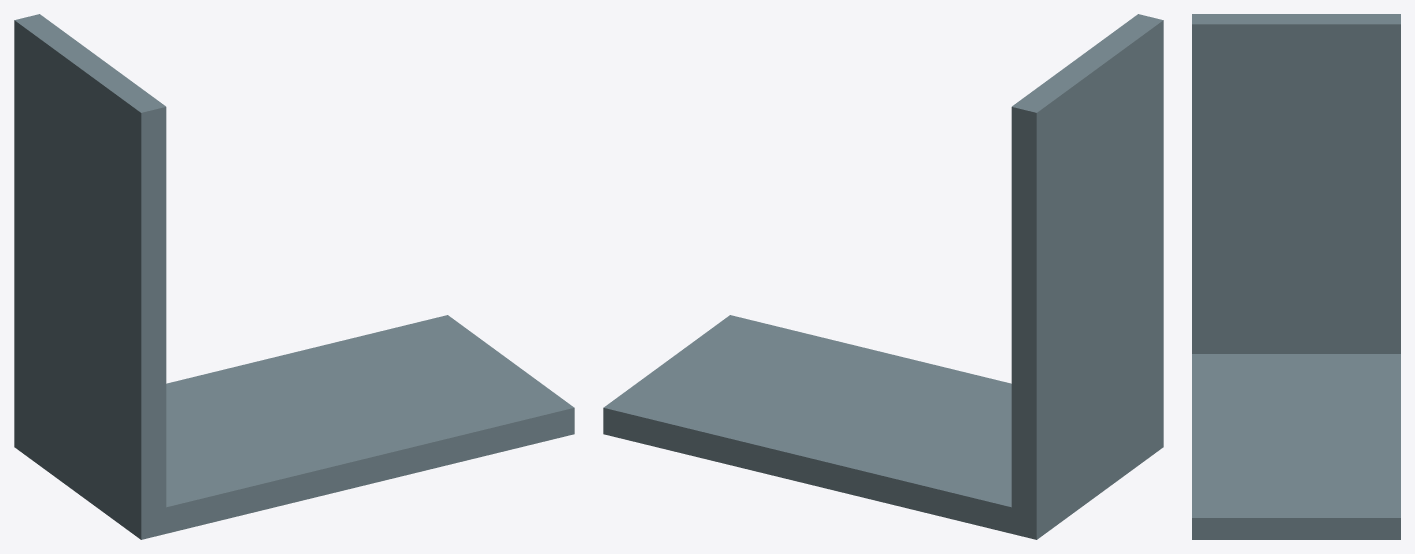
File: step-2.obj
3 renders of one model, left to right at view 1: azimuth 30°, elevation 25°; view 2: azimuth 150°, elevation 25°; view 3: azimuth 270°, elevation 25°, orthographic. The views are drawn at different scales.
Parts seen in each view (by area): view 1: IKE170029; view 2: IKE170029; view 3: IKE170029.
Boxes of the visible parts, x1,y1,x2,y2 form: IKE170029: (14, 14, 574, 539); IKE170029: (603, 14, 1163, 539); IKE170029: (1192, 14, 1400, 539).
Size of the model in its own units: 0.77 by 0.725 by 0.39.
